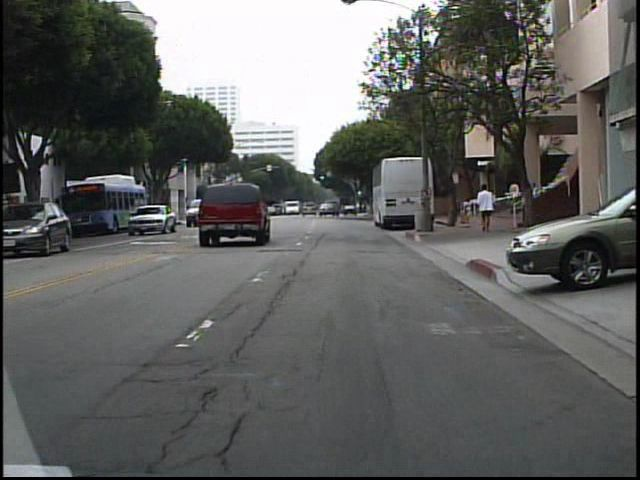person: (475, 184, 500, 237), (461, 195, 475, 225)
